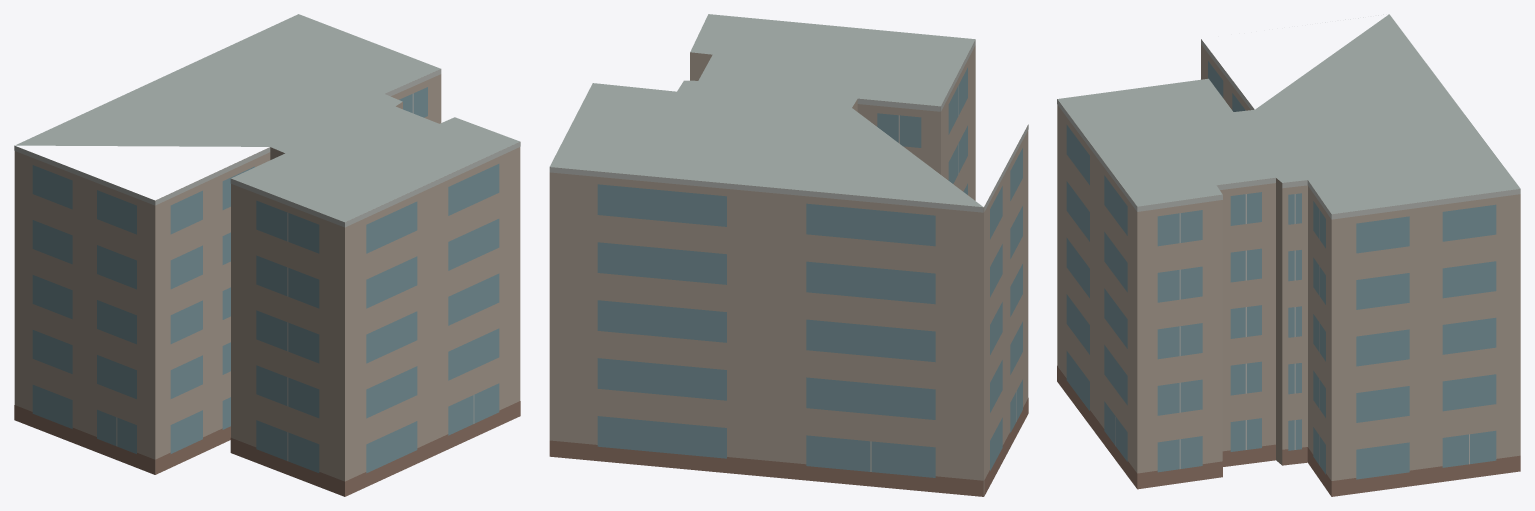
The model's file is survey-upis-32621367.glb.
3 views of the same model, side by side, from view 1: azimuth 30°, elevation 25°; view 2: azimuth 150°, elevation 25°; view 3: azimuth 270°, elevation 25° (orthographic). The views are drawn at different scales.
Parts seen in each view (by area): view 1: survey-upis-32621367.tmp; view 2: survey-upis-32621367.tmp; view 3: survey-upis-32621367.tmp.
Boxes of the visible parts, <box> form: survey-upis-32621367.tmp: <box>14,14,520,496</box>; survey-upis-32621367.tmp: <box>549,14,1028,496</box>; survey-upis-32621367.tmp: <box>1057,14,1520,496</box>.
Bounding box in the file's own units: 19.77 × 13 × 19.33.
